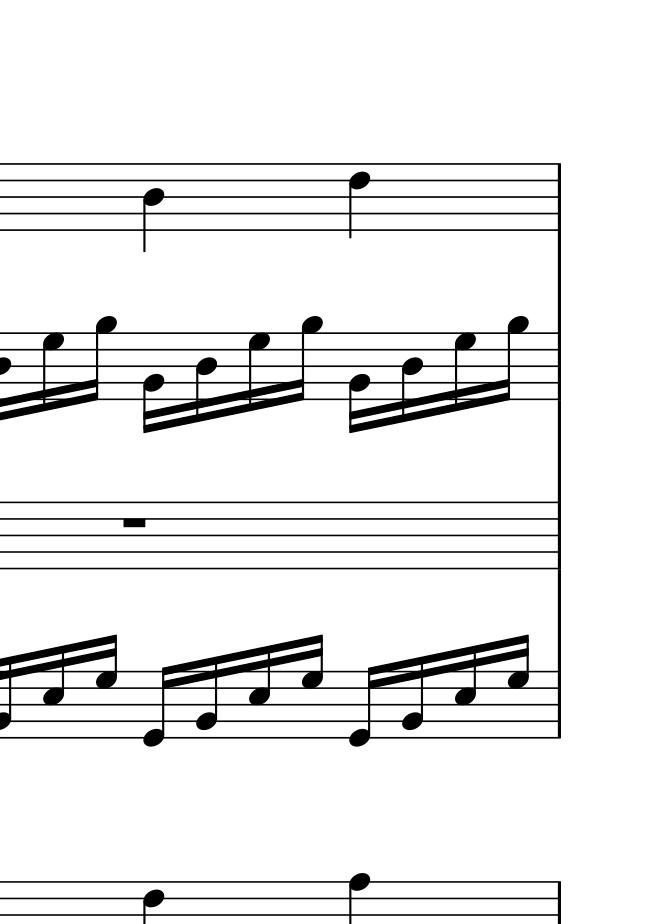16_0: (345, 663, 382, 748), (141, 663, 176, 748)
16_2: (345, 330, 372, 434), (398, 654, 428, 742), (192, 656, 221, 740), (142, 331, 164, 433)
16_4: (397, 330, 425, 423), (192, 330, 219, 425)
16_5: (246, 644, 273, 741), (454, 643, 480, 740), (41, 644, 67, 740)
16_7: (506, 634, 534, 743), (298, 633, 325, 743), (94, 633, 119, 740), (450, 331, 477, 413), (246, 331, 272, 414)
16_9: (289, 315, 325, 404), (85, 315, 118, 403), (497, 314, 527, 401)
4_4: (141, 161, 166, 255)
4_6: (348, 162, 372, 242)
8_7: (39, 331, 65, 413)
Rests1: (119, 517, 153, 531)
Single_barline: (550, 159, 568, 229), (550, 672, 568, 736), (551, 501, 566, 569), (551, 334, 566, 399)
